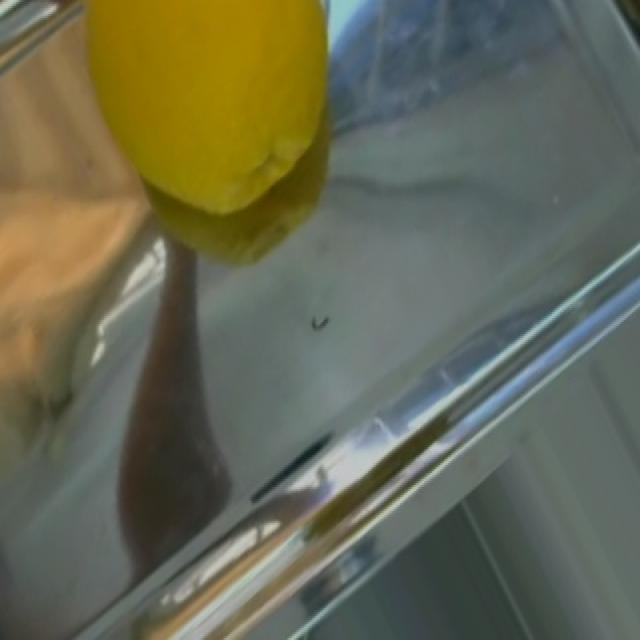Fruit: (45, 2, 360, 225)
